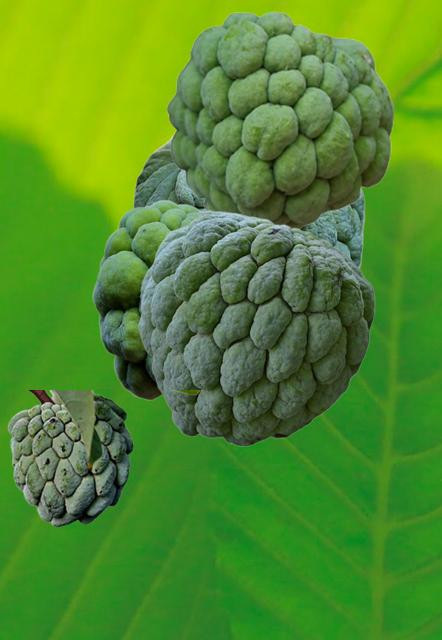atis: (138, 210, 374, 445), (166, 11, 393, 229), (132, 130, 364, 267), (7, 390, 199, 526), (92, 199, 203, 402)
